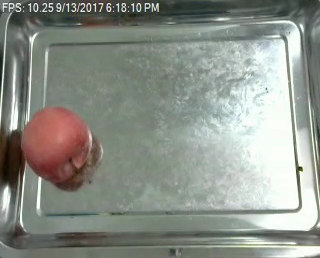Apple: (17, 106, 98, 186)
